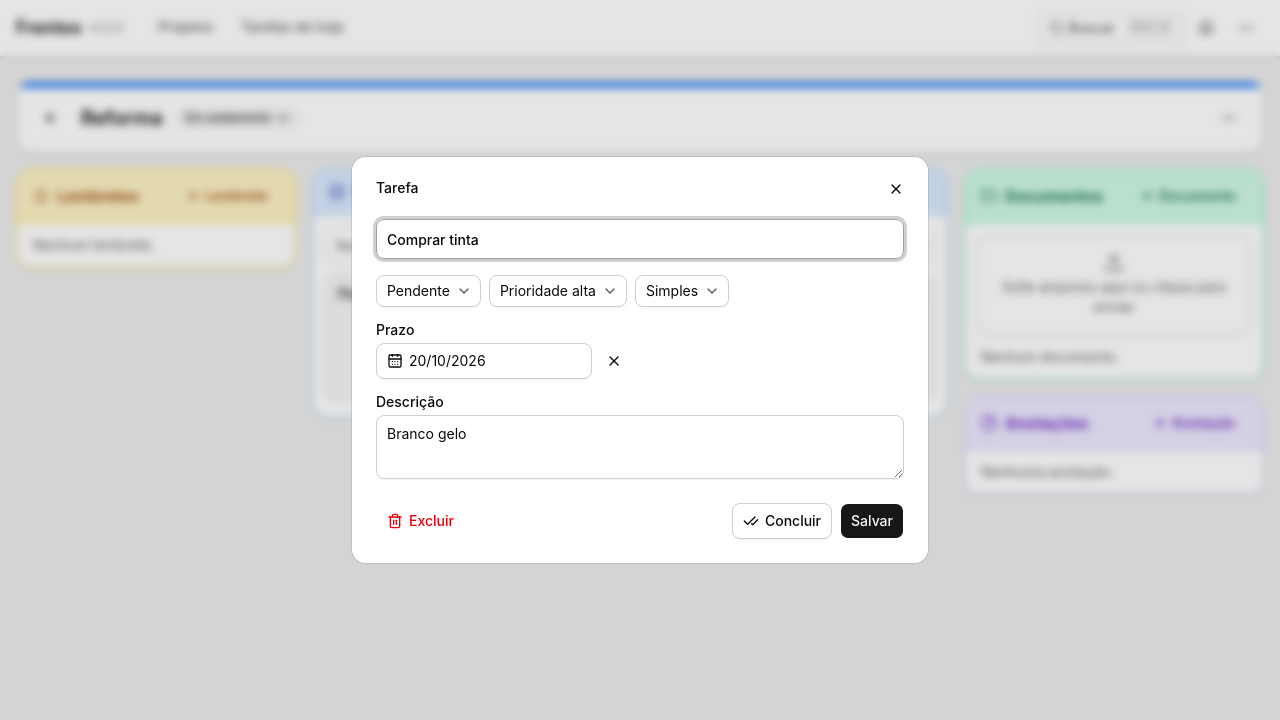
Test: ModalTarefa (01 §4.5) › Salvar envia só o que mudou e fecha
This screenshot has width=1280, height=720.
Replace the text in the field named "Título" with "Pincel" at (640, 239), box [376,219,904,259]
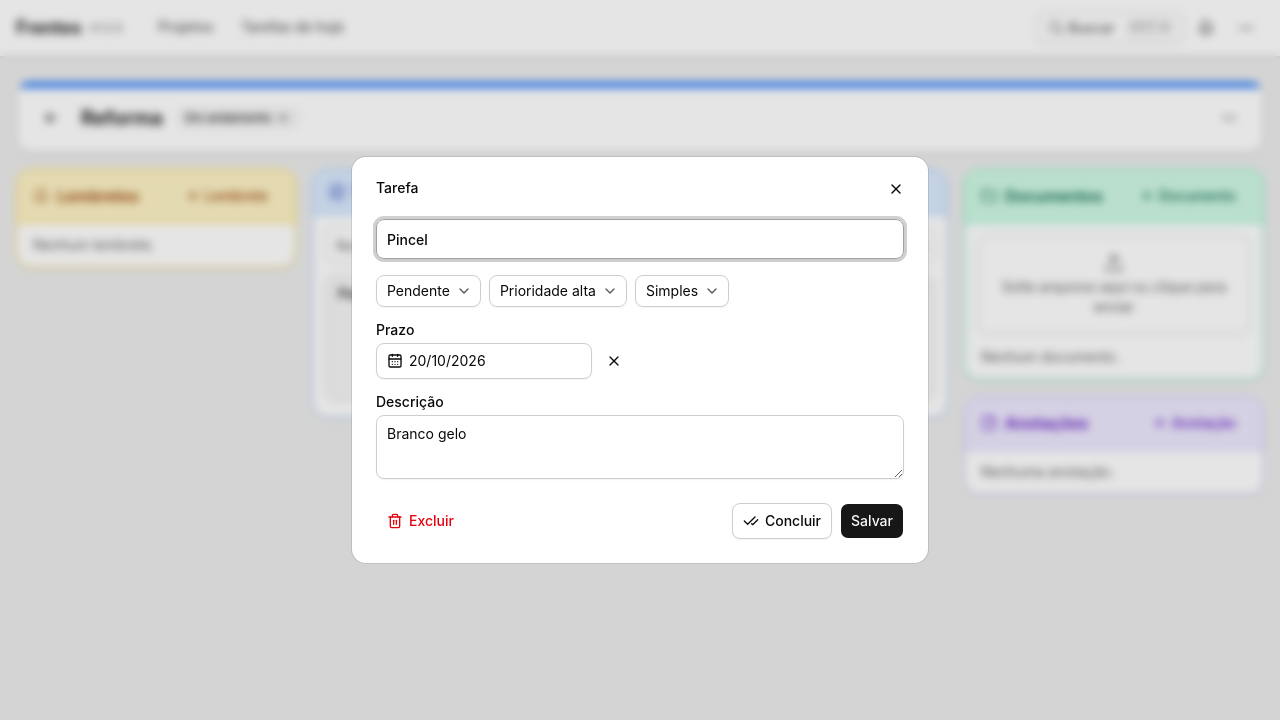
Click the button "Salvar".
click(872, 521)  # box [840,503,904,539]
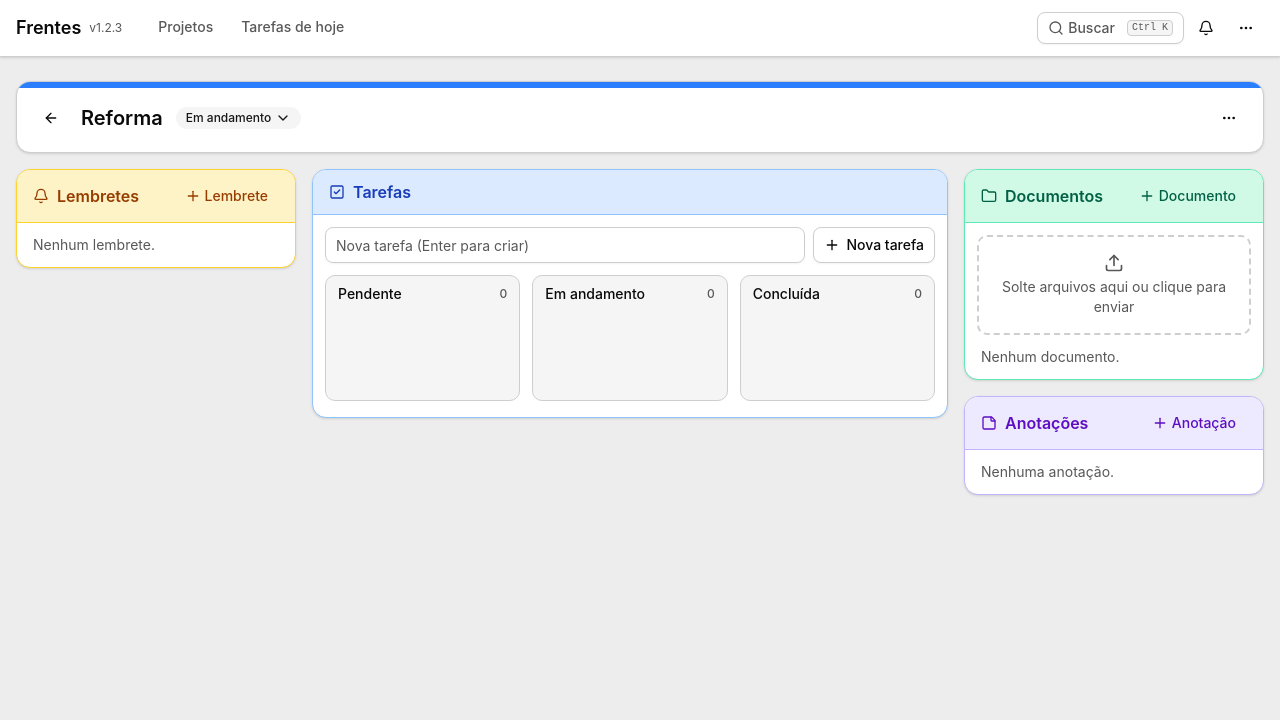
Expected: the dialog is gone
